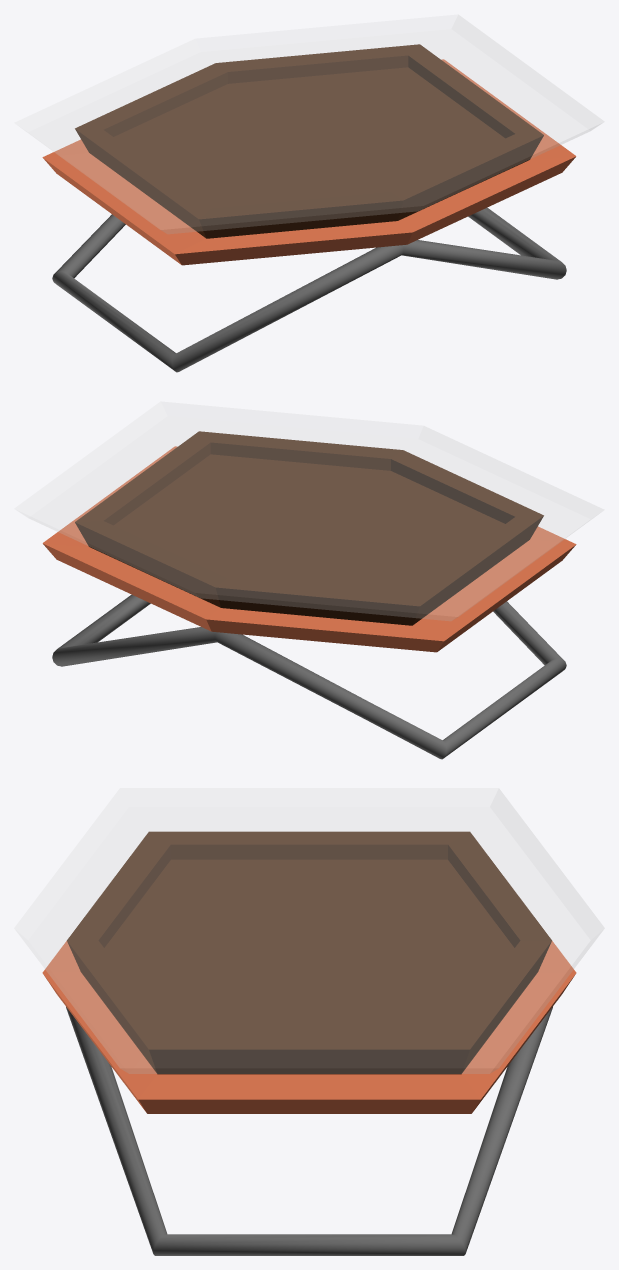
File: masa2.fbx
3 views of the same model, one above another, from view 1: azimuth 30°, elevation 25°; view 2: azimuth 150°, elevation 25°; view 3: azimuth 270°, elevation 25° (orthographic). The views are drawn at different scales.
Visible parts, largest first — view 1: masa, cam; view 2: masa, cam; view 3: cam, masa.
Boxes of the visible parts, x1,y1,x2,y2 form: masa: [42, 44, 576, 372]; cam: [15, 14, 604, 233]; masa: [42, 431, 576, 759]; cam: [14, 401, 603, 620]; cam: [14, 788, 604, 1073]; masa: [42, 831, 576, 1255].
Bounding box in the file's own units: 783 × 271 × 697.
